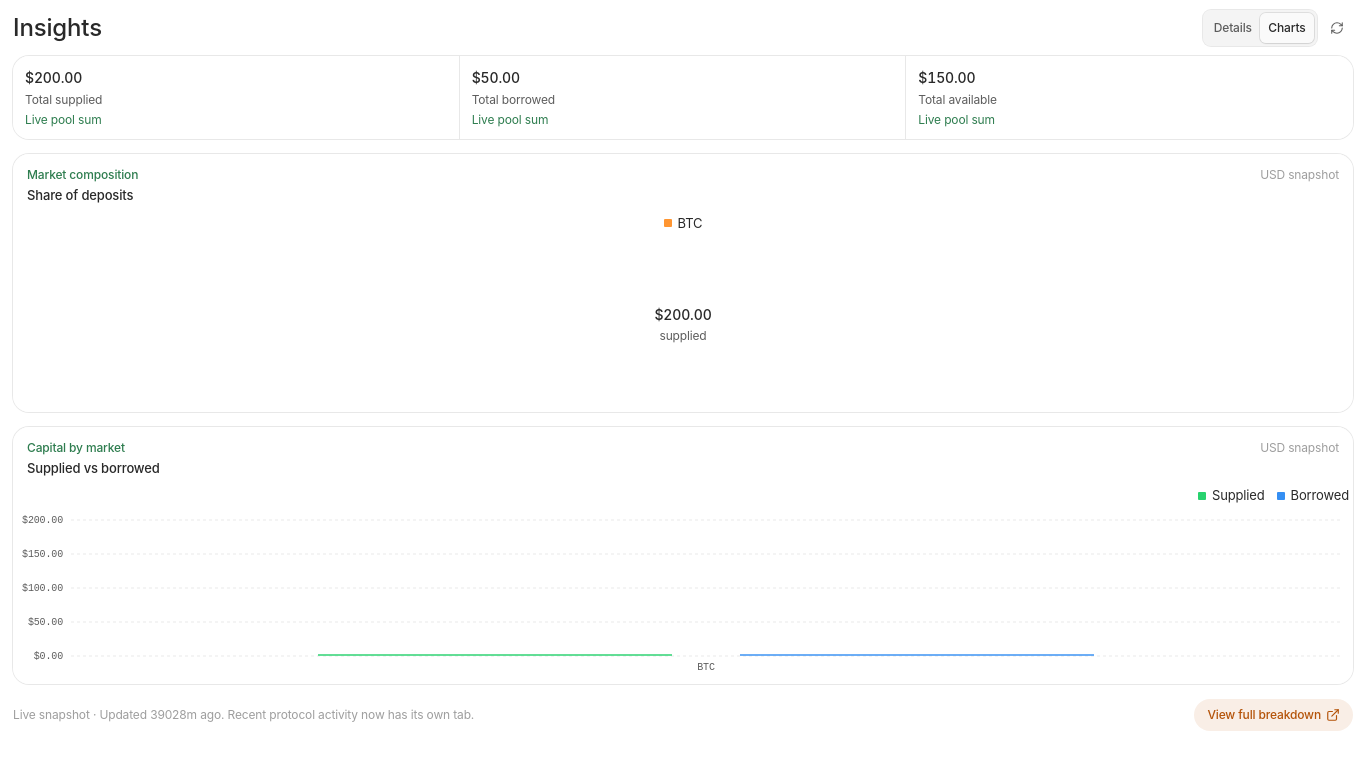
insights › shows compact protocol and pool totals in numbers mode
Expected: the heading "Insights" is shown, [13,10,102,46]
Click the button "Details". click: (1233, 28)
box: [1206,13,1260,43]
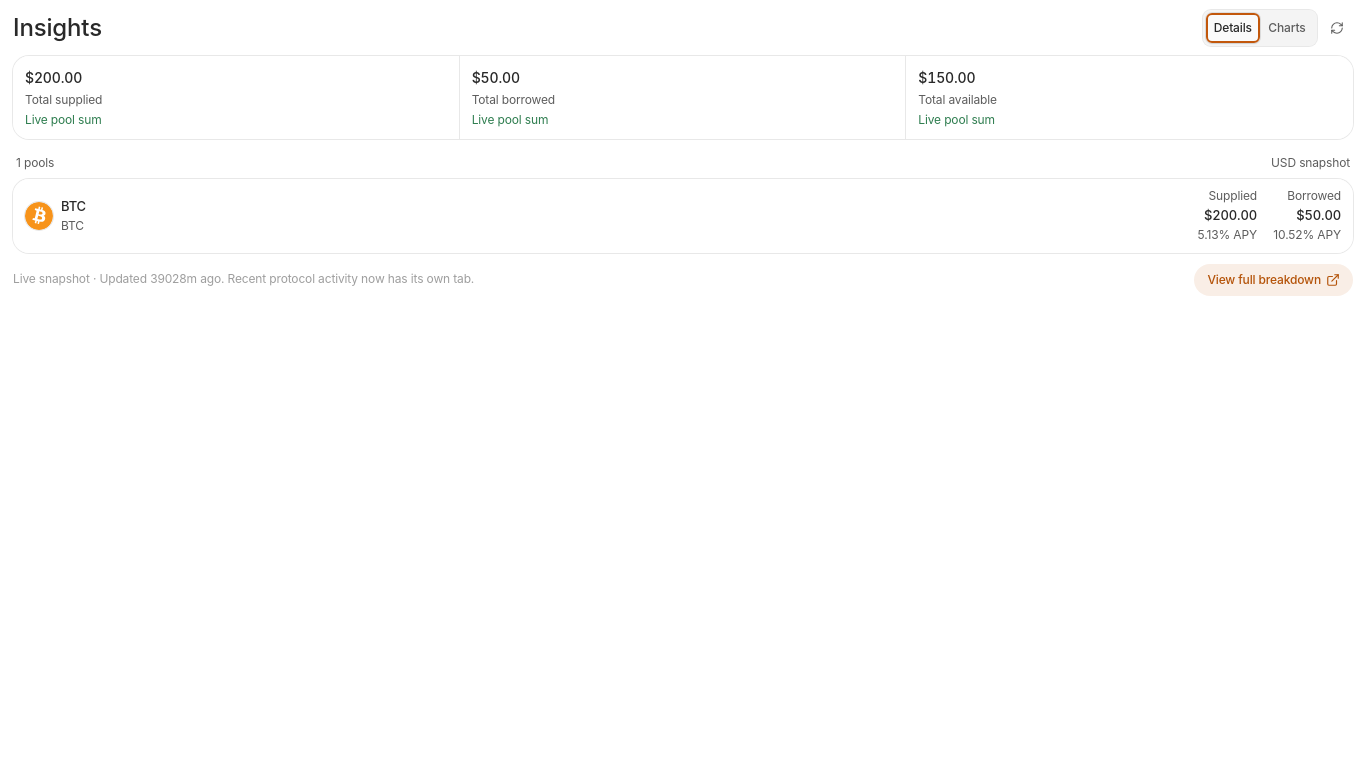
Now the element named "Pool totals" is shown, box [13,179,1353,252]
Now the 1st text "BTC" is shown, box [61,198,86,214]
Now the text "5.13% APY" is shown, box [1198,226,1257,242]
